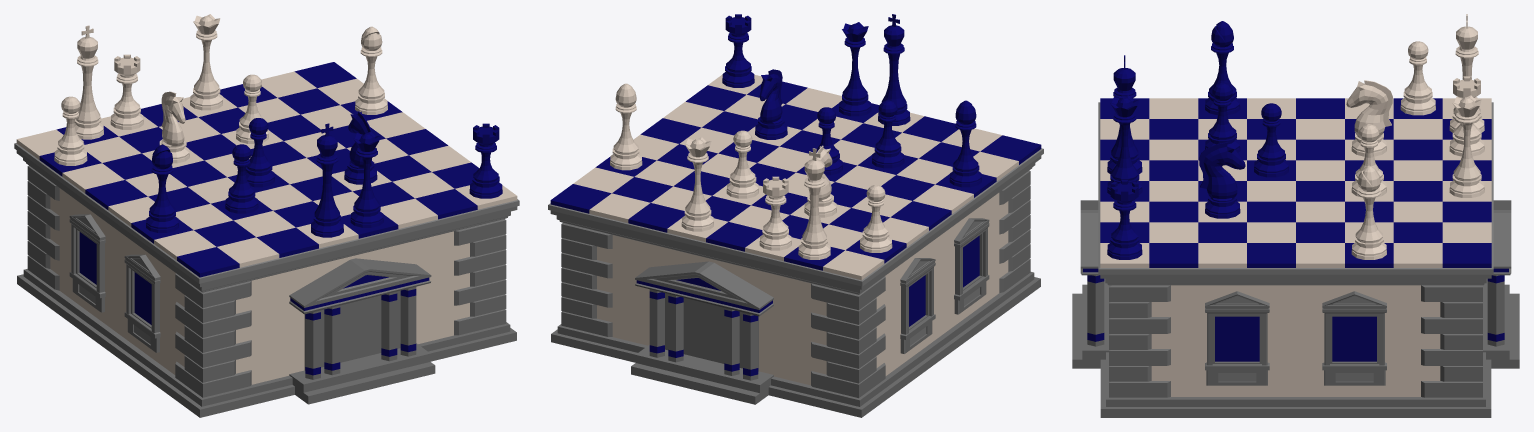
File: Chess.obj
3 renders of one model, left to right at view 1: azimuth 30°, elevation 25°; view 2: azimuth 150°, elevation 25°; view 3: azimuth 270°, elevation 25°, orthographic. The views are drawn at different scales.
Parts seen in each view (by area): view 1: roof_Cube, base_Cube.003, corners_Cube.004, door_Cube.002, window_Cube.001, Cylinder_Cylinder.001, BK_Circle, BK.001_Circle.022, BQ.001_Circle.009, BQ_Circle.006, BB_Circle.007, BR_Circle.010 (+8 smaller); view 2: roof_Cube, base_Cube.003, corners_Cube.004, door_Cube.002, window_Cube.001, Cylinder_Cylinder.001, BK.001_Circle.022, BQ.001_Circle.009, BQ_Circle.006, BB.001_Circle.015, BN_Circle.008, BB_Circle.007 (+8 smaller); view 3: roof_Cube, base_Cube.003, corners_Cube.004, window_Cube.001, door_Cube.002, Cylinder_Cylinder.001, BN_Circle.008, WN_Circle.018, BQ.001_Circle.009, BB.001_Circle.015, BR_Circle.010, BP.004_Circle.003 (+8 smaller).
Boxes of the visible parts, left/top/right/bottom form: roof_Cube: left=14, top=62, right=519, bottom=292; base_Cube.003: left=17, top=188, right=516, bottom=417; corners_Cube.004: left=27, top=165, right=506, bottom=397; door_Cube.002: left=289, top=258, right=435, bottom=404; window_Cube.001: left=69, top=214, right=160, bottom=352; Cylinder_Cylinder.001: left=305, top=287, right=416, bottom=379; BK_Circle: left=311, top=123, right=343, bottom=237; BK.001_Circle.022: left=74, top=25, right=103, bottom=139; BQ.001_Circle.009: left=190, top=14, right=222, bottom=110; BQ_Circle.006: left=350, top=131, right=383, bottom=227; BB_Circle.007: left=146, top=144, right=178, bottom=232; BR_Circle.010: left=469, top=123, right=502, bottom=198; roof_Cube: left=548, top=74, right=1043, bottom=294; base_Cube.003: left=551, top=193, right=1040, bottom=417; corners_Cube.004: left=561, top=170, right=1030, bottom=398; door_Cube.002: left=631, top=261, right=773, bottom=404; window_Cube.001: left=900, top=218, right=989, bottom=353; Cylinder_Cylinder.001: left=649, top=289, right=758, bottom=380; BK.001_Circle.022: left=798, top=148, right=830, bottom=259; BQ.001_Circle.009: left=681, top=137, right=713, bottom=231; BQ_Circle.006: left=839, top=22, right=871, bottom=116; BB.001_Circle.015: left=610, top=83, right=642, bottom=170; BN_Circle.008: left=755, top=69, right=787, bottom=139; BB_Circle.007: left=949, top=100, right=981, bottom=187; roof_Cube: left=1098, top=98, right=1493, bottom=285; base_Cube.003: left=1100, top=278, right=1491, bottom=417; corners_Cube.004: left=1109, top=285, right=1482, bottom=397; window_Cube.001: left=1205, top=291, right=1386, bottom=385; door_Cube.002: left=1072, top=200, right=1519, bottom=368; Cylinder_Cylinder.001: left=1087, top=275, right=1504, bottom=346; BN_Circle.008: left=1199, top=142, right=1245, bottom=218; WN_Circle.018: left=1346, top=80, right=1392, bottom=156; BQ.001_Circle.009: left=1449, top=95, right=1484, bottom=197; BB.001_Circle.015: left=1351, top=165, right=1386, bottom=259; BR_Circle.010: left=1107, top=179, right=1142, bottom=259; BP.004_Circle.003: left=1400, top=41, right=1435, bottom=115.
Bounding box in the file's own units: 4.04 × 3.03 × 4.57.
